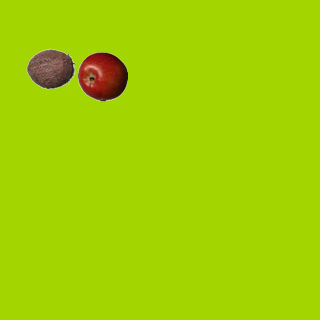Apple Braeburn: (77, 51, 127, 101)
Cocos: (25, 43, 75, 93)
